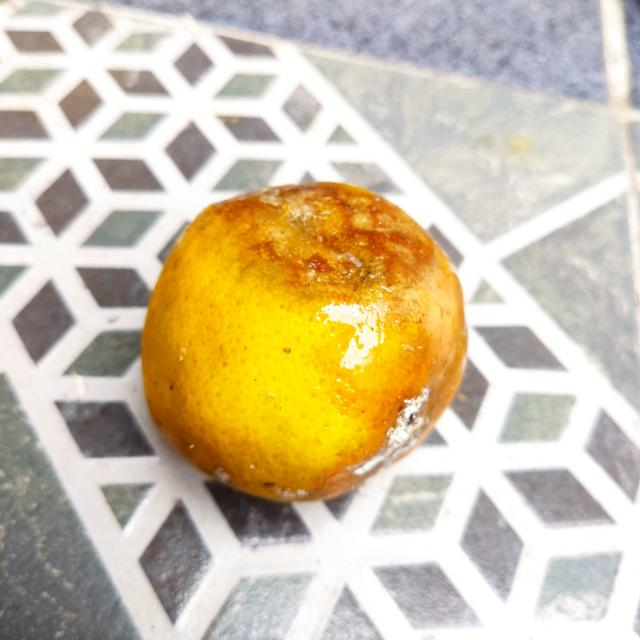orange: (137, 180, 470, 503)
